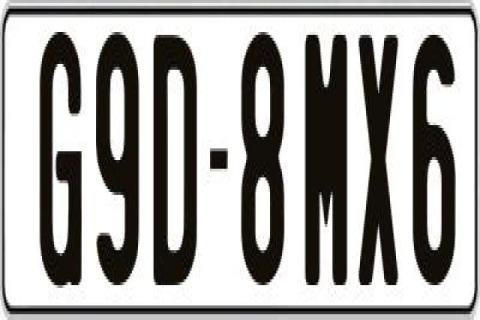0: (412, 29, 460, 297), (240, 32, 286, 294), (94, 29, 136, 291)
D: (152, 29, 199, 291)
G: (39, 29, 83, 299)
M: (304, 32, 354, 282)
X: (358, 32, 400, 282)
